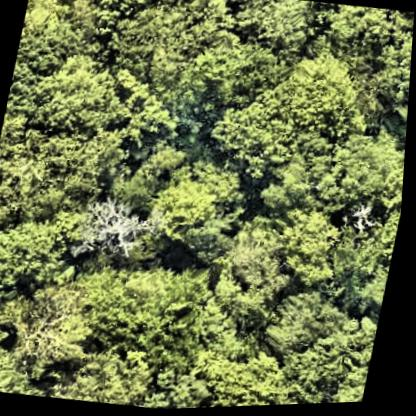tree-top: (113, 0, 261, 113), (89, 253, 228, 351), (0, 120, 114, 231), (144, 156, 254, 263), (20, 49, 122, 141), (209, 94, 313, 180), (319, 130, 409, 224), (216, 217, 304, 312), (13, 284, 97, 376), (315, 3, 403, 89), (263, 286, 356, 366), (198, 336, 294, 410), (273, 200, 349, 291), (103, 69, 184, 151), (279, 50, 363, 128), (75, 185, 155, 265), (72, 342, 166, 409), (15, 0, 108, 66), (0, 219, 70, 300), (226, 0, 323, 58), (367, 25, 414, 129), (140, 137, 192, 183), (0, 285, 38, 335), (330, 363, 374, 406), (362, 263, 394, 321), (0, 304, 21, 384)
